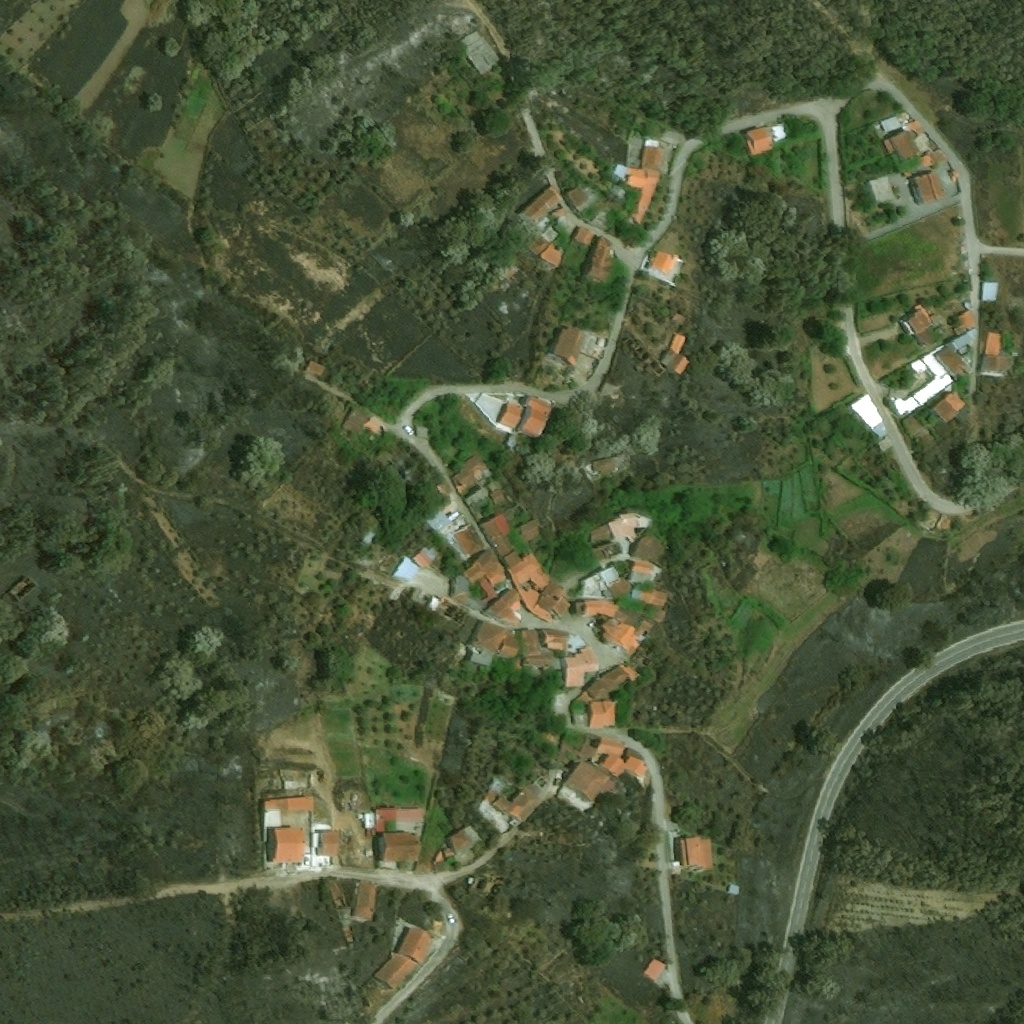0 no-damage: (892, 350, 956, 420), (489, 779, 555, 823), (560, 759, 611, 810), (507, 567, 554, 622), (626, 170, 664, 227), (586, 661, 640, 700), (850, 393, 890, 441), (471, 620, 520, 659), (552, 325, 600, 364), (458, 31, 501, 74), (515, 394, 555, 439), (373, 952, 419, 990), (606, 512, 653, 549), (443, 824, 482, 865), (449, 455, 488, 496), (585, 234, 619, 280), (267, 824, 308, 862), (600, 616, 642, 653), (561, 646, 599, 686), (510, 553, 550, 590), (365, 807, 426, 831), (631, 531, 670, 568), (525, 186, 563, 221), (397, 927, 433, 963), (487, 587, 524, 622), (932, 390, 970, 424), (937, 345, 973, 380), (582, 566, 621, 598), (867, 176, 906, 208), (678, 835, 712, 869), (453, 523, 485, 559), (379, 833, 419, 861), (539, 583, 571, 617), (902, 306, 933, 338), (353, 882, 378, 921), (890, 130, 919, 163), (980, 350, 1017, 375), (262, 797, 315, 813), (747, 126, 774, 157), (912, 173, 937, 206), (593, 453, 627, 477), (567, 182, 595, 211), (340, 408, 368, 436), (955, 299, 978, 333), (480, 513, 511, 538), (642, 139, 665, 171), (516, 518, 545, 543), (632, 588, 670, 607), (393, 556, 421, 581), (592, 199, 620, 224), (476, 575, 499, 605), (589, 700, 615, 726), (653, 248, 679, 274), (622, 755, 649, 780), (483, 561, 508, 588), (576, 600, 618, 616), (465, 643, 493, 667), (412, 545, 440, 569), (540, 243, 568, 267), (488, 492, 516, 515), (528, 232, 554, 256), (587, 524, 612, 548), (500, 401, 522, 427), (542, 630, 570, 650), (642, 958, 665, 982), (502, 503, 525, 527), (596, 738, 625, 757), (465, 560, 487, 584), (491, 533, 512, 558), (928, 170, 945, 200), (451, 573, 473, 596), (661, 127, 683, 150), (463, 487, 489, 506), (601, 757, 625, 777), (522, 654, 558, 667), (627, 137, 643, 166), (323, 832, 342, 856), (923, 149, 947, 168), (630, 562, 655, 580), (672, 354, 693, 375), (670, 329, 689, 352), (633, 649, 654, 669), (880, 116, 903, 134), (952, 331, 975, 349), (574, 226, 595, 245), (480, 549, 499, 569), (984, 331, 1003, 351), (415, 425, 434, 445), (662, 346, 680, 367), (536, 546, 555, 565), (917, 326, 934, 347), (612, 162, 630, 181), (913, 135, 931, 154), (983, 281, 1000, 301), (305, 361, 326, 377), (265, 809, 283, 826), (505, 430, 521, 449), (504, 550, 521, 567), (360, 528, 377, 545), (907, 121, 924, 138), (485, 478, 503, 494), (628, 169, 648, 180), (883, 138, 896, 154), (612, 184, 627, 197), (428, 594, 440, 610), (489, 489, 504, 501), (554, 208, 566, 219), (727, 885, 740, 895), (311, 832, 319, 847), (951, 170, 961, 182), (437, 851, 443, 860)
3 destroyed: (435, 595, 462, 622), (469, 873, 504, 893), (329, 881, 347, 910), (451, 606, 471, 629), (560, 83, 571, 98)
